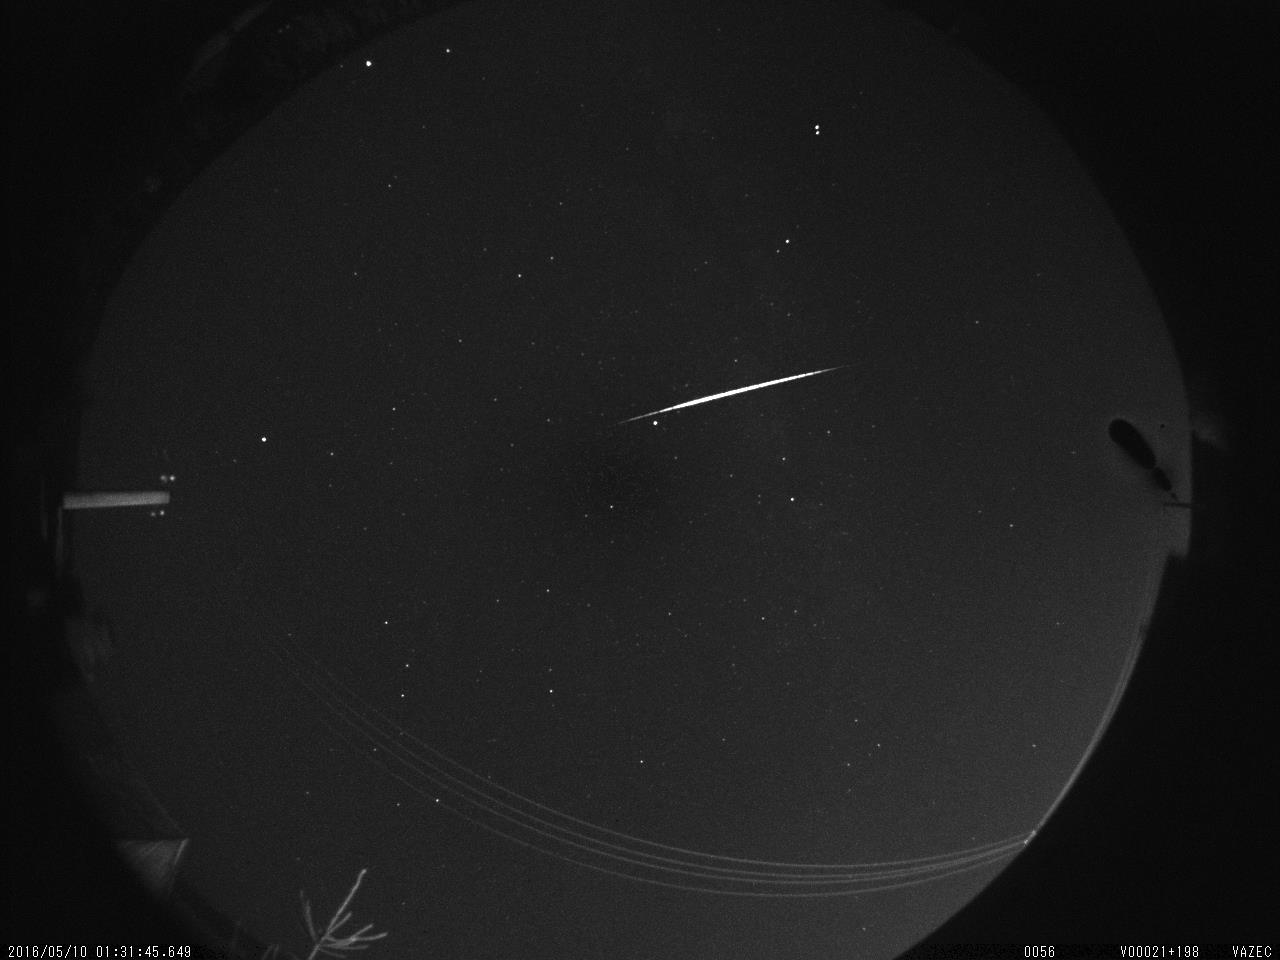meteor: (586, 350, 855, 442)
